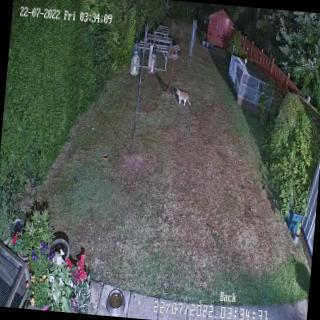cat: (174, 88, 193, 108)
